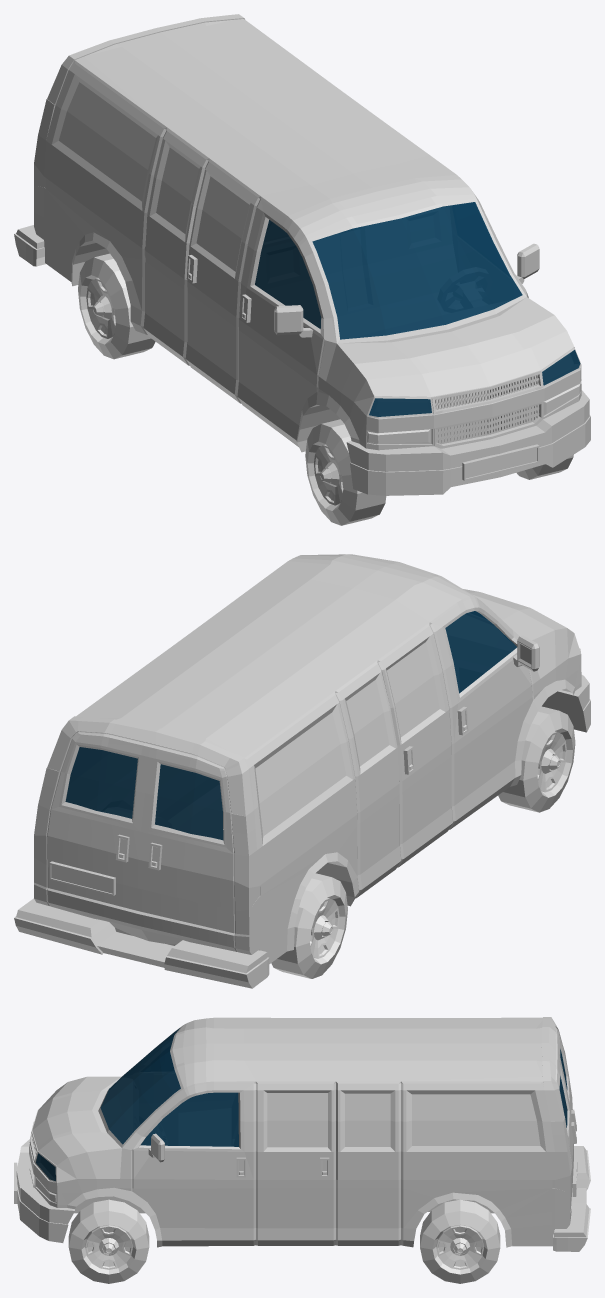
File: van_seperate_wheels.fbx
3 views of the same model, one above another, from view 1: azimuth 30°, elevation 25°; view 2: azimuth 150°, elevation 25°; view 3: azimuth 270°, elevation 25° (orthographic). The views are drawn at different scales.
Parts seen in each view (by area): view 1: van, van_glass, van_wheel.003, van_wheel.002; view 2: van, van_right_door, van_left_door, van_wheel.002, van_wheel.003, van_glass; view 3: van, van_glass, van_wheel, van_wheel.001, van_left_door, van_right_door.
Boxes of the visible parts, x1,y1,x2,y2 form: van: [14, 14, 590, 495]; van_glass: [255, 202, 580, 416]; van_wheel.003: [78, 253, 155, 359]; van_wheel.002: [305, 419, 386, 525]; van: [14, 554, 590, 988]; van_right_door: [138, 745, 235, 951]; van_left_door: [47, 732, 150, 929]; van_wheel.002: [498, 706, 575, 812]; van_wheel.003: [271, 873, 347, 978]; van_glass: [445, 611, 516, 693]; van: [14, 1017, 590, 1251]; van_glass: [36, 1028, 238, 1181]; van_wheel: [68, 1199, 149, 1283]; van_wheel.001: [420, 1199, 500, 1283]; van_left_door: [555, 1051, 577, 1208]; van_right_door: [555, 1028, 576, 1131].
Size of the model in its own units: 328 by 307 by 803.
